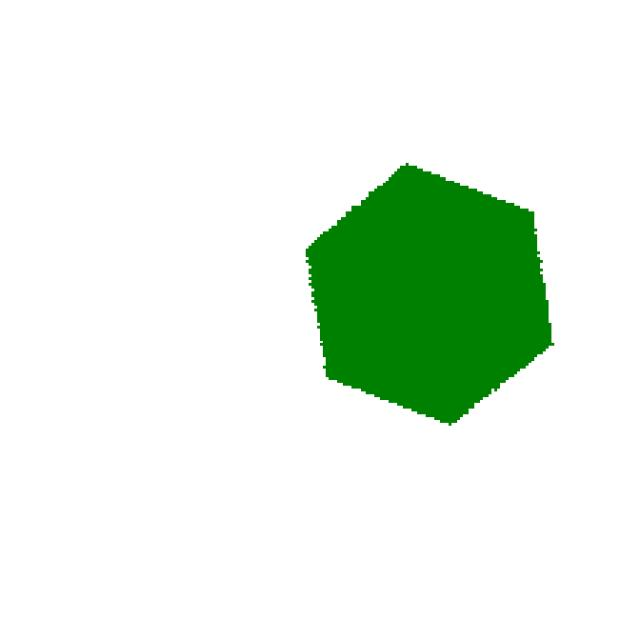Hexagon: (266, 124, 604, 447)
